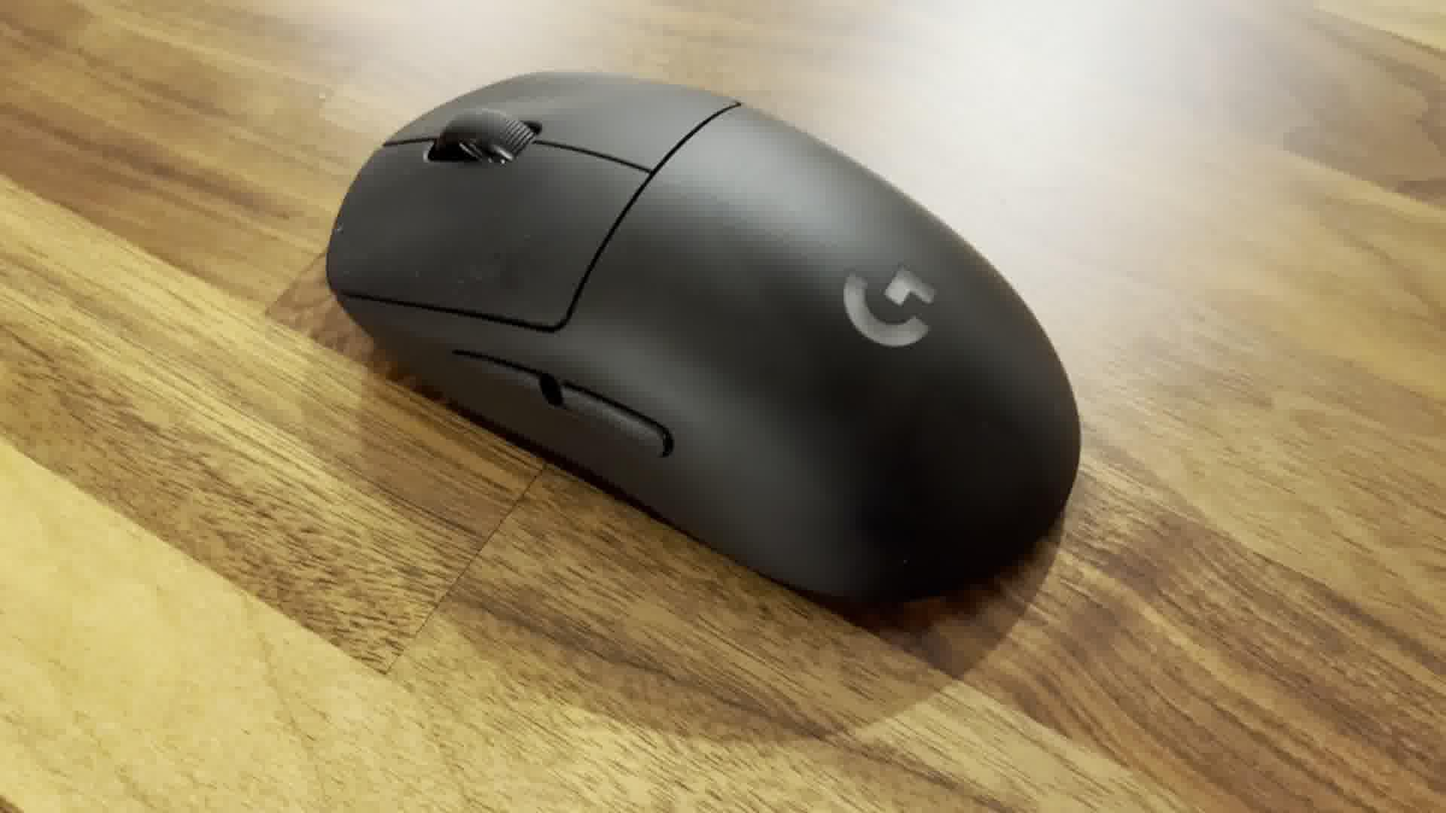mouse: (323, 65, 1087, 618)
